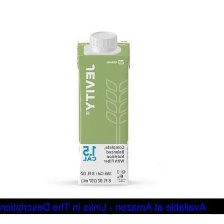carton: (69, 26, 134, 190)
